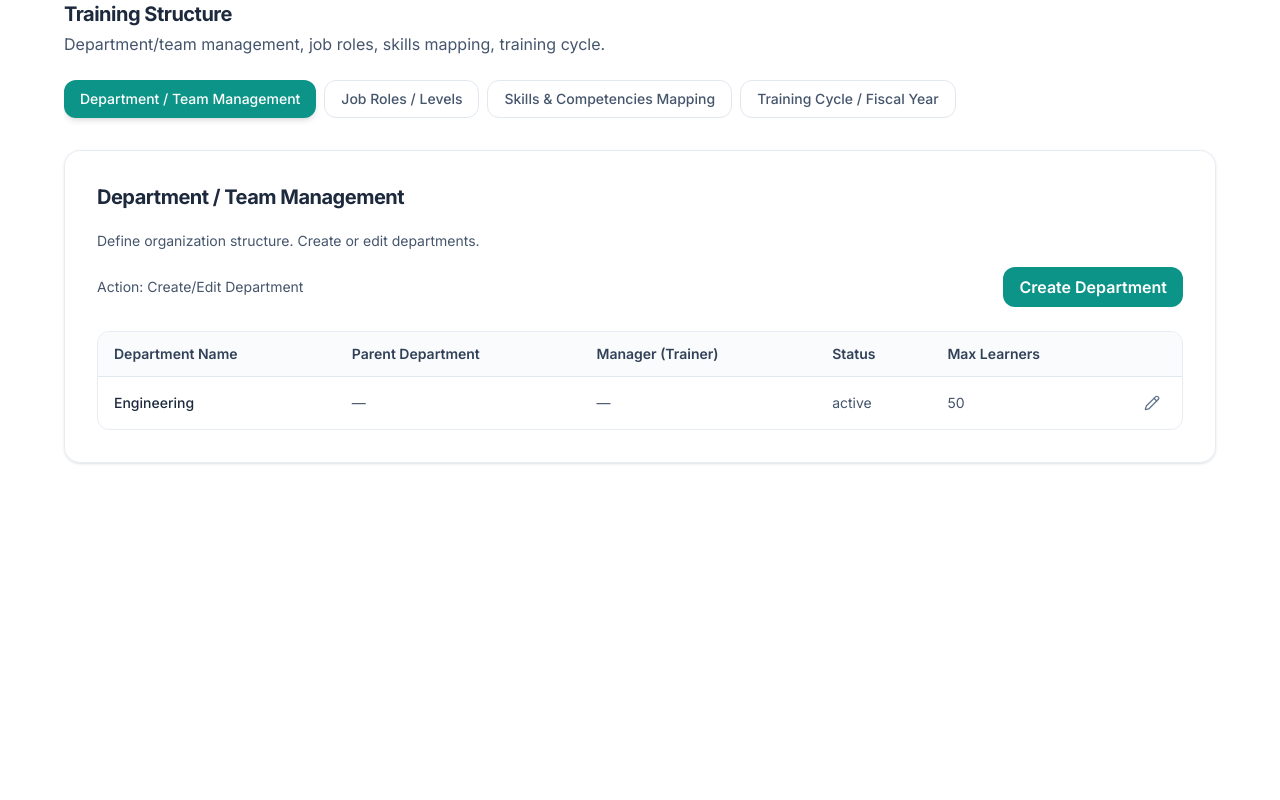
Test: AcademicSetup – Department CRUD › opens Edit Department modal when pencil button is clicked on a department row
Click the button named "Edit" at (1152, 403), box [1138,389,1166,417]
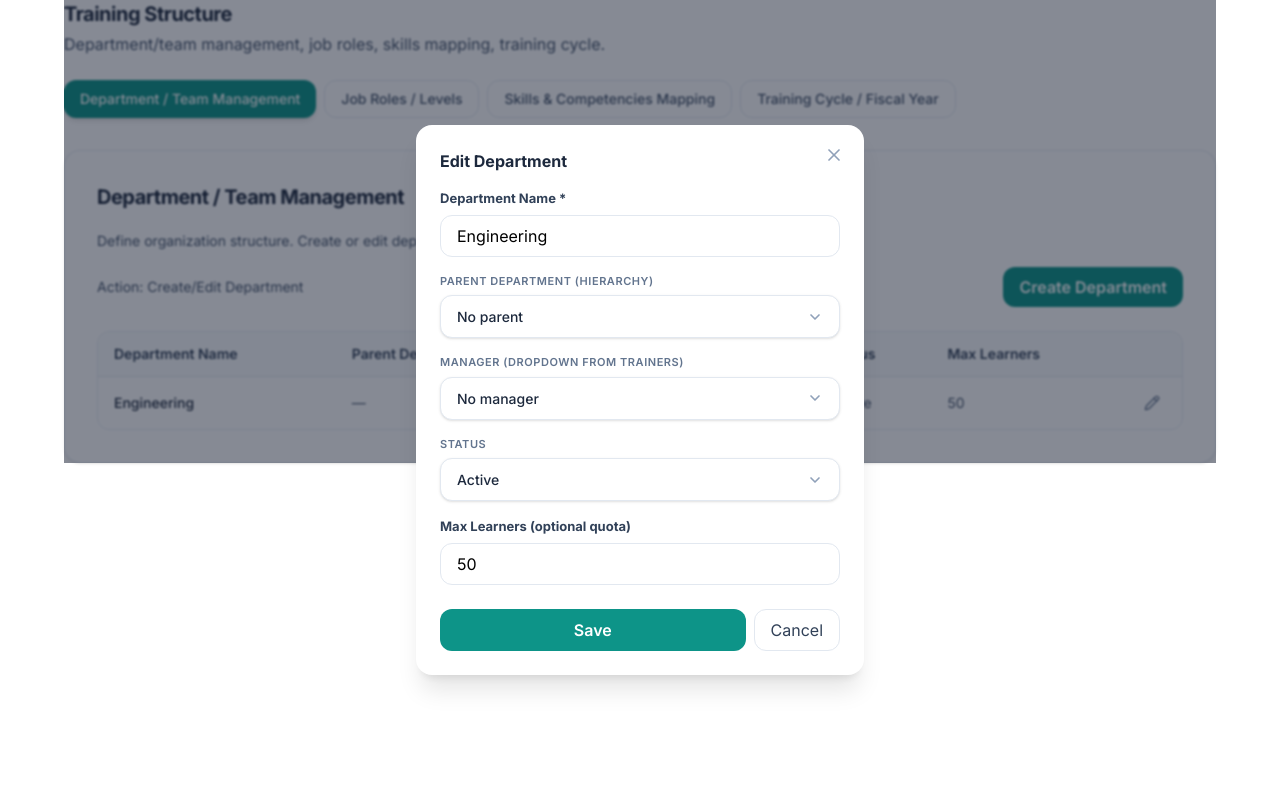
Check: the heading "Edit Department" is shown, box [440,151,567,171]
